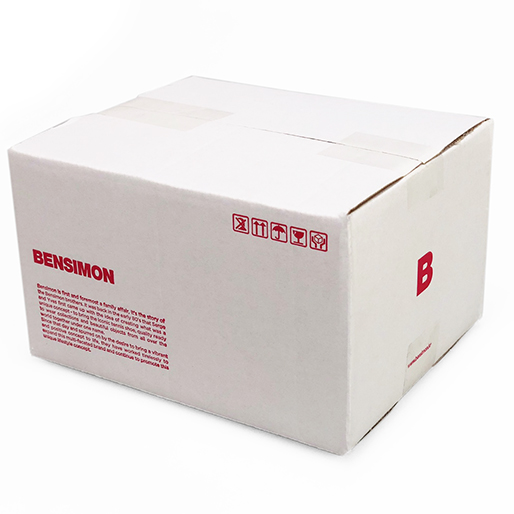undamaged: (7, 76, 490, 461)
